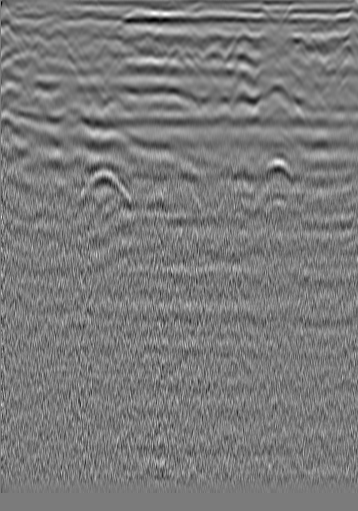가스: (261, 157, 289, 187)
상수: (0, 20, 20, 40)
오수: (308, 31, 331, 58)
우수: (169, 29, 189, 49)
